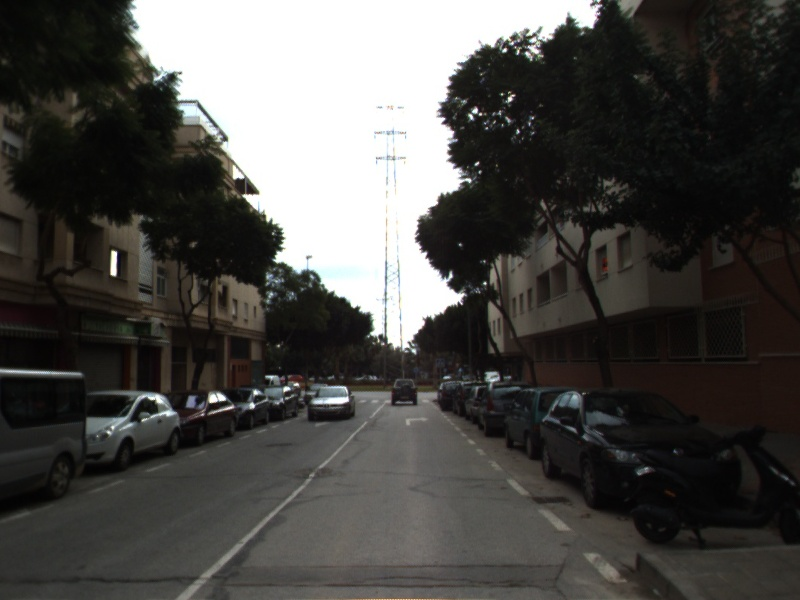RIGHT: (403, 414, 432, 428)
